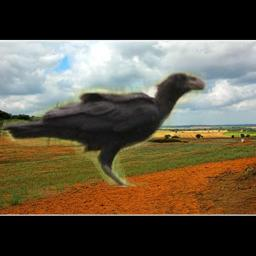Crow: (0, 71, 208, 187)
